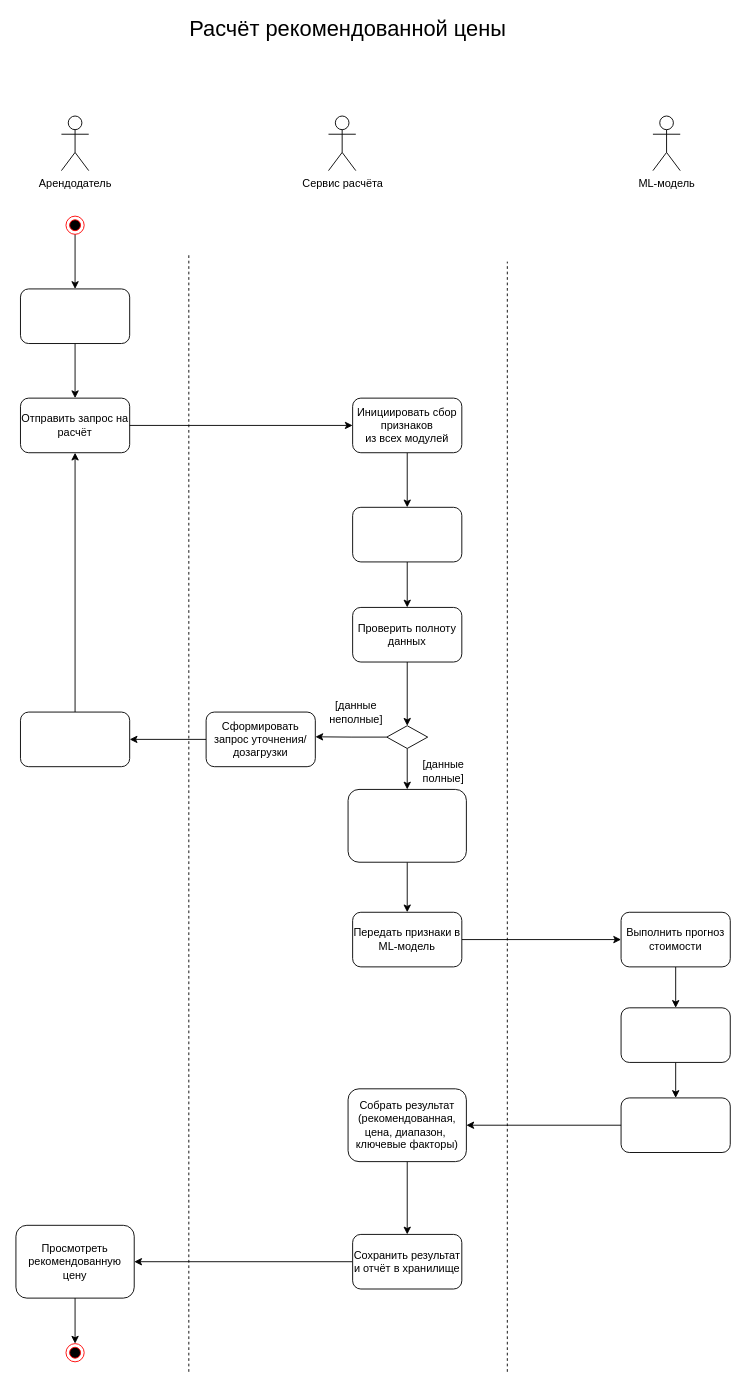
The diagram is 746 pixels wide and 1389 high, and some of its shapes have lost their labels. The centre of each missing label's shape, as x and y in pixels:
Добавление фото, уточнение описания, адреса: (x=75, y=739)
Нажать "Рассчитать стоимость": (x=75, y=316)
Нормализовать признаки (масштабирование, one-hot, заполнение пропусков): (x=406, y=825)
Определить диапазон цены (минимум–максимум): (x=675, y=1034)
Получить текстовые, визуальные и гео-признаки: (x=407, y=534)
Рассчитать важность факторов (SHAP): (x=675, y=1125)
